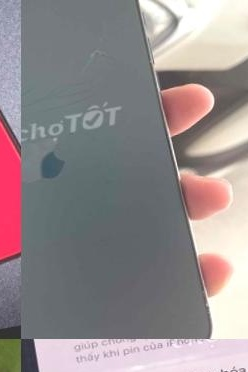physical_damage: (21, 42, 128, 130)
